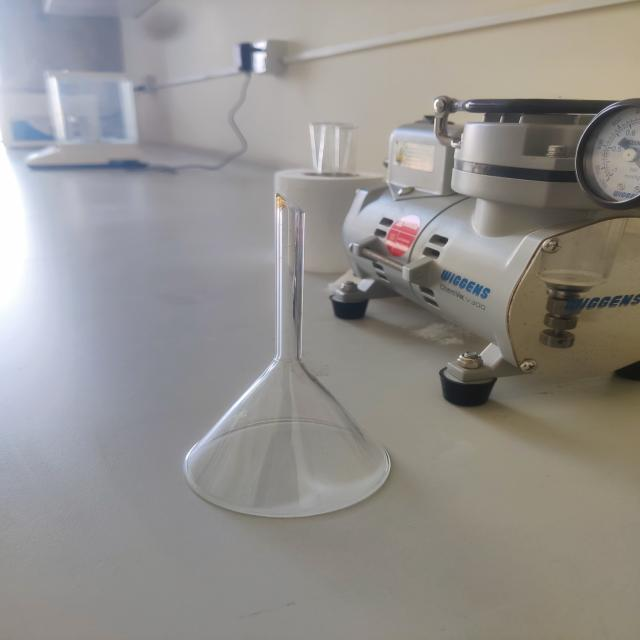Funnel: (146, 165, 458, 554)
